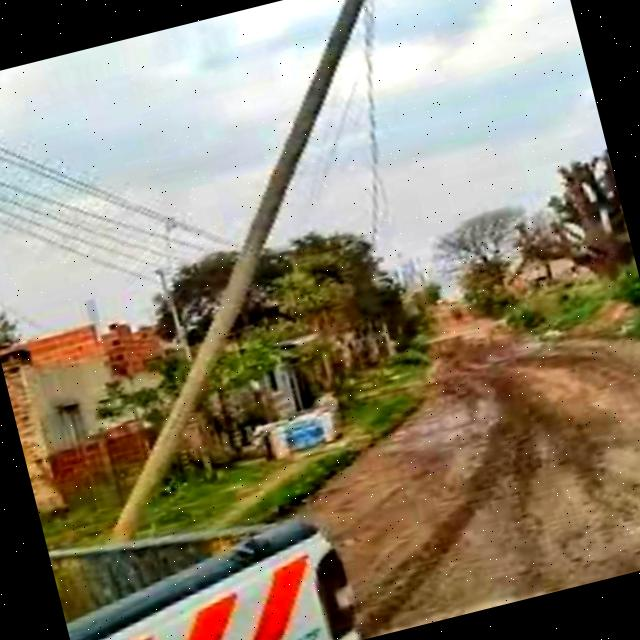Broken Pole: (102, 0, 367, 551)
